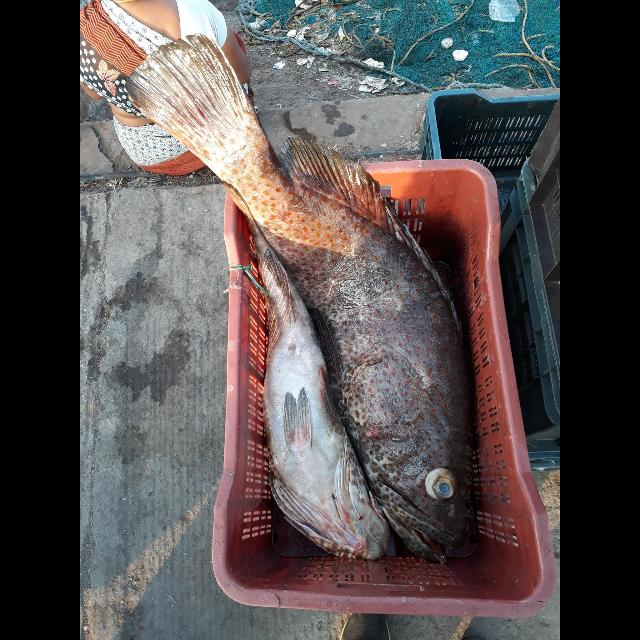Groupers: (127, 32, 486, 564)
